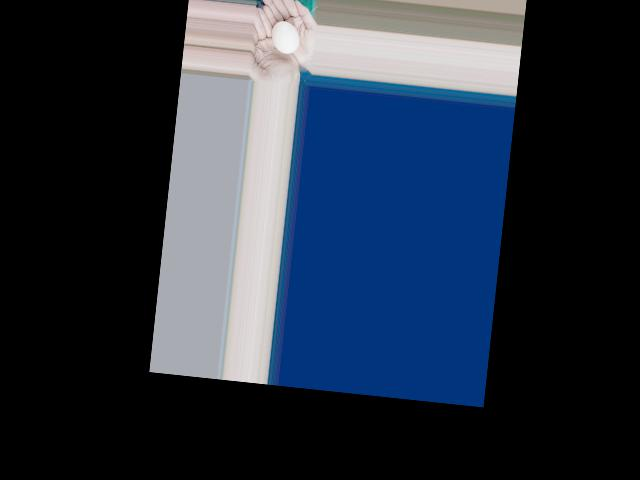egg: (270, 19, 300, 54)
